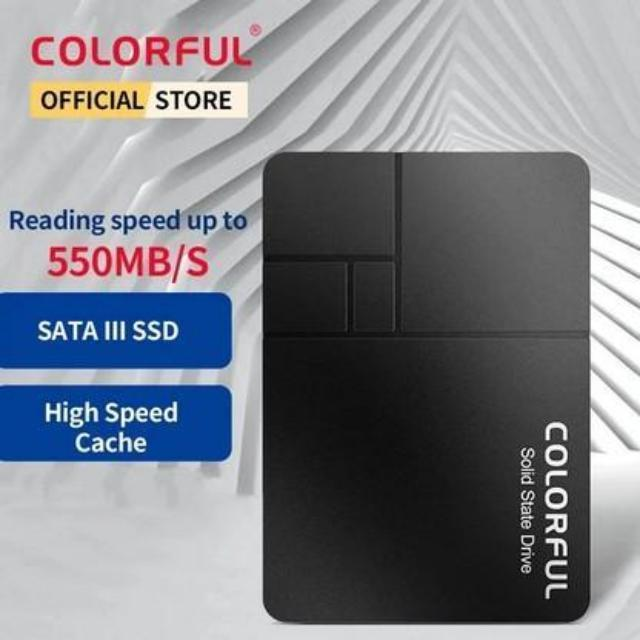DISK: (264, 150, 593, 628)
